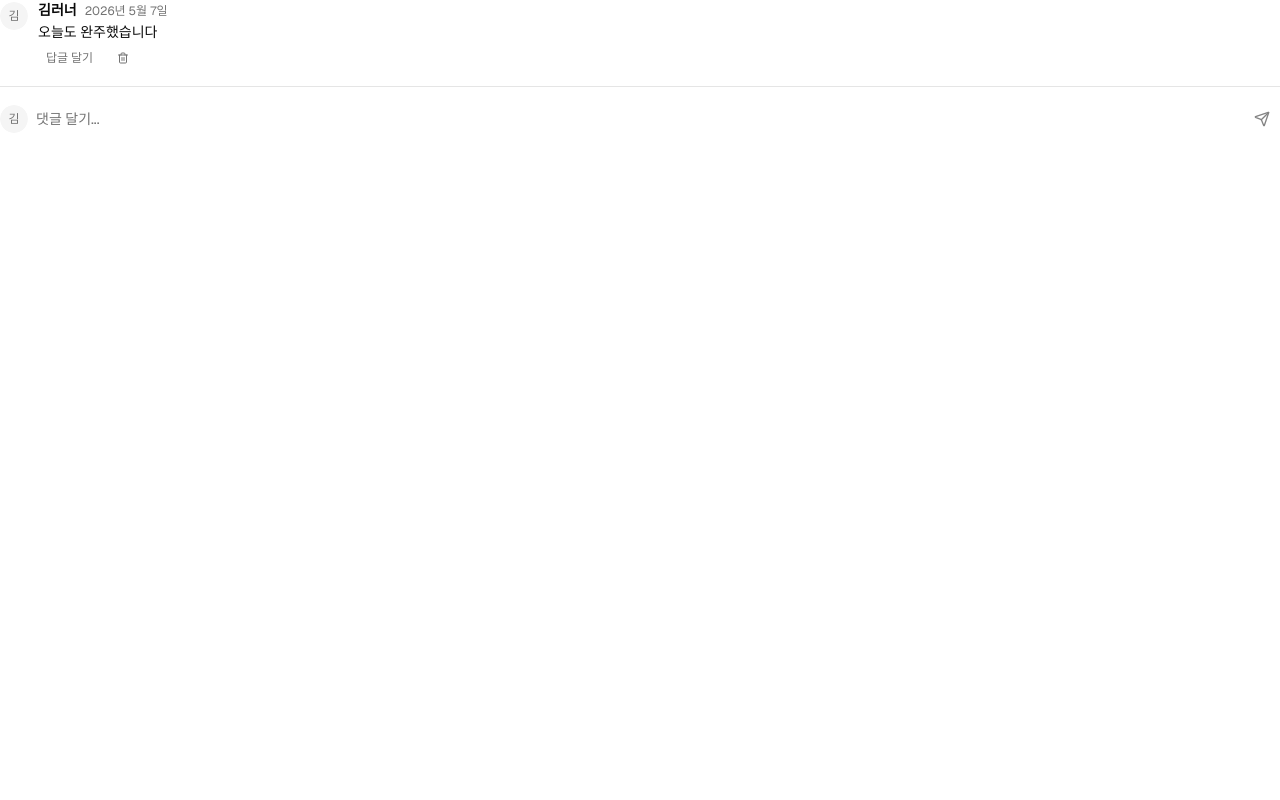
CommentList query and mutation migration › refreshes the visible comment list after delete succeeds
This screenshot has width=1280, height=800.
Expected: the text "오늘도 완주했습니다" is shown, [38, 23, 157, 41]
Click the button named "댓글 삭제".
click(123, 58)  # box [113, 48, 133, 68]
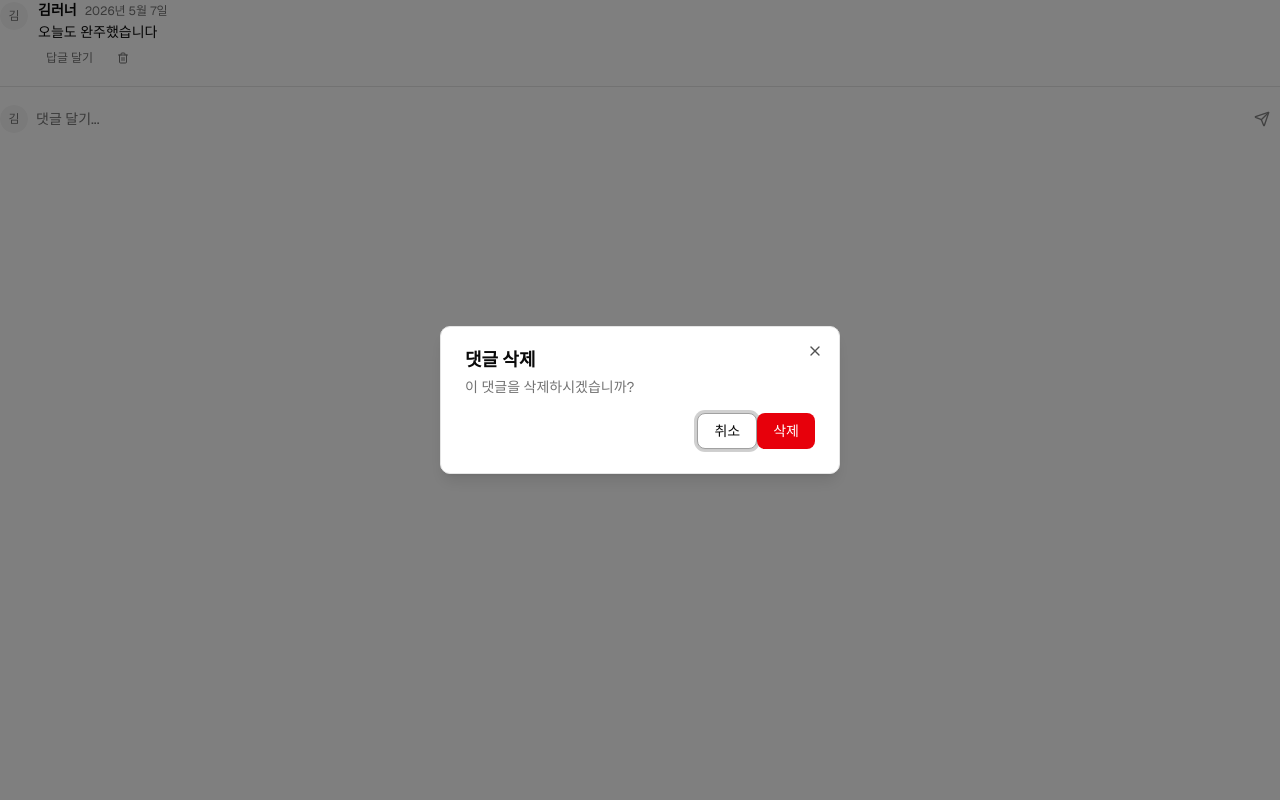
Click the button "삭제".
click(786, 431)  # box [757, 413, 815, 449]
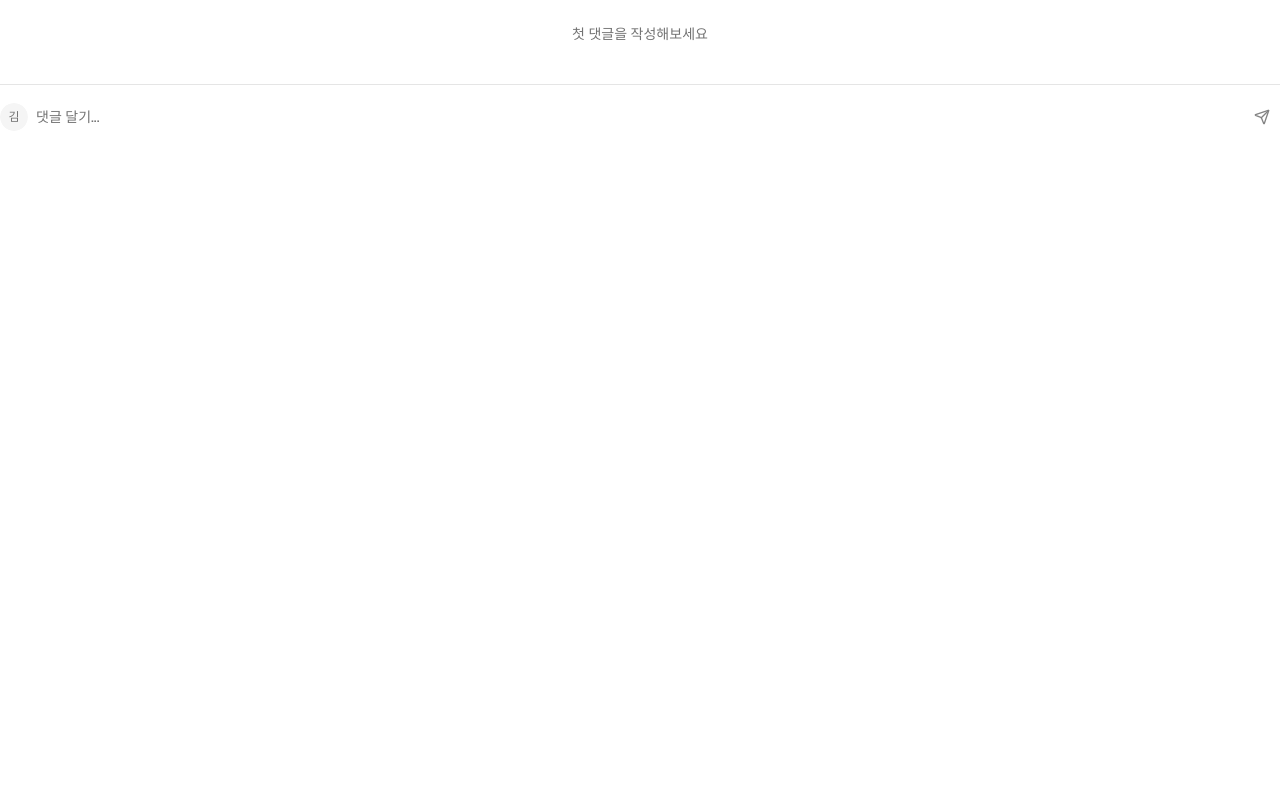
Expected: the text "첫 댓글을 작성해보세요" is shown, [572, 25, 708, 43]
